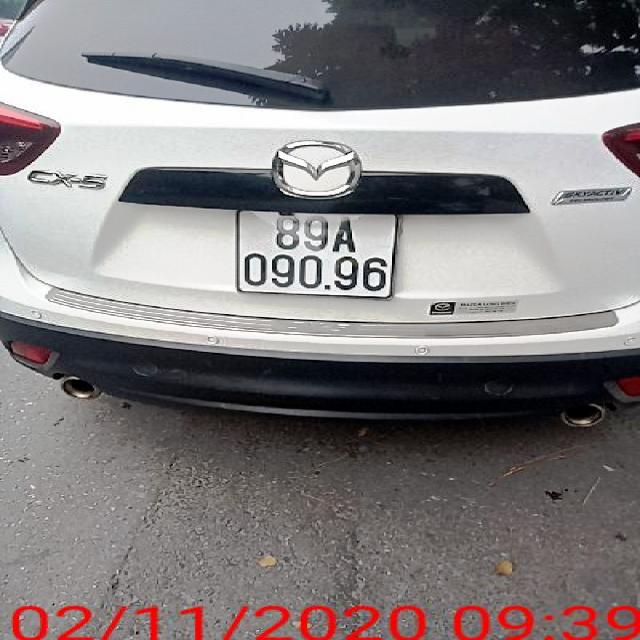license_plate: (238, 210, 402, 298)
